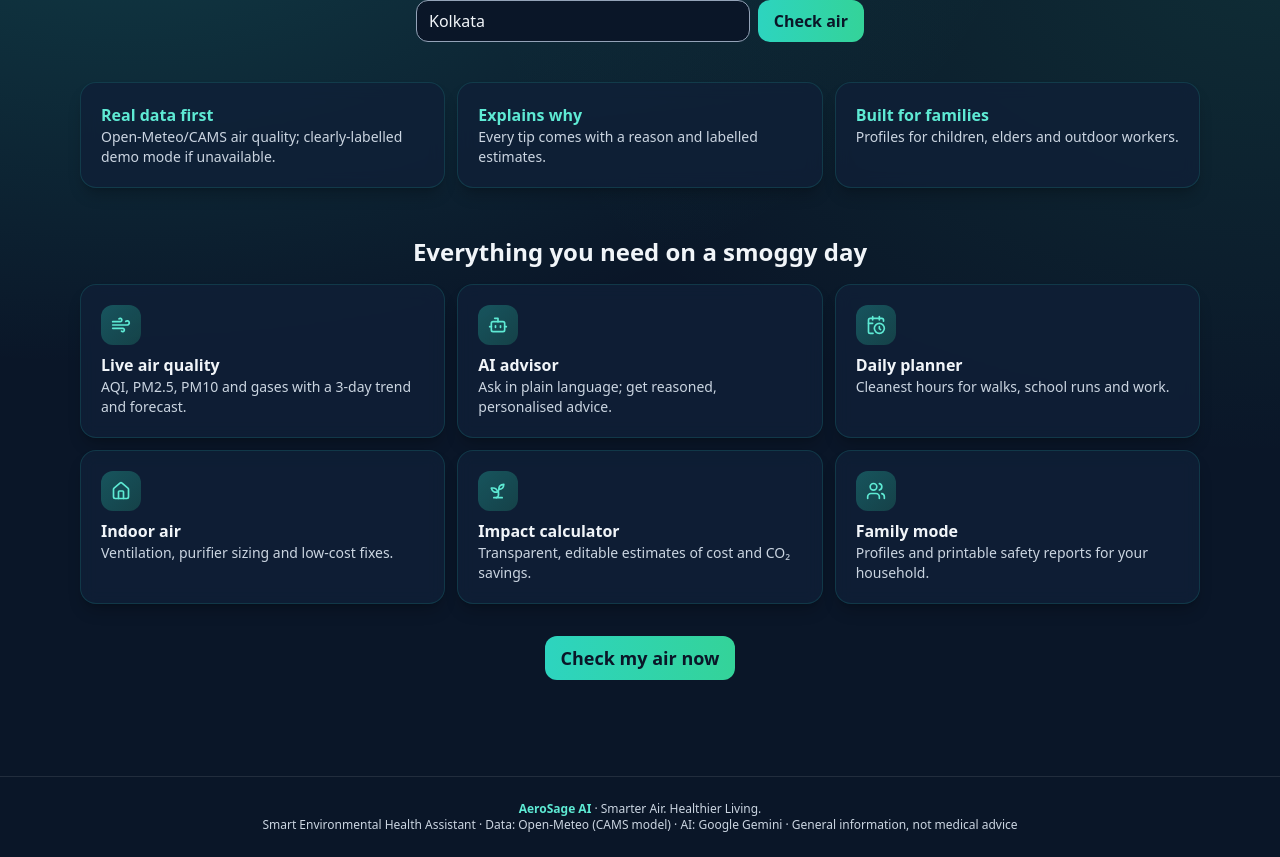
Test: loading and error states › shows a status while loading
The width and height of the screenshot is (1280, 857).
(page scrolled)
Click the button "Check my air now". click: [640, 658]
box: [545,636,736,680]
(page scrolled)
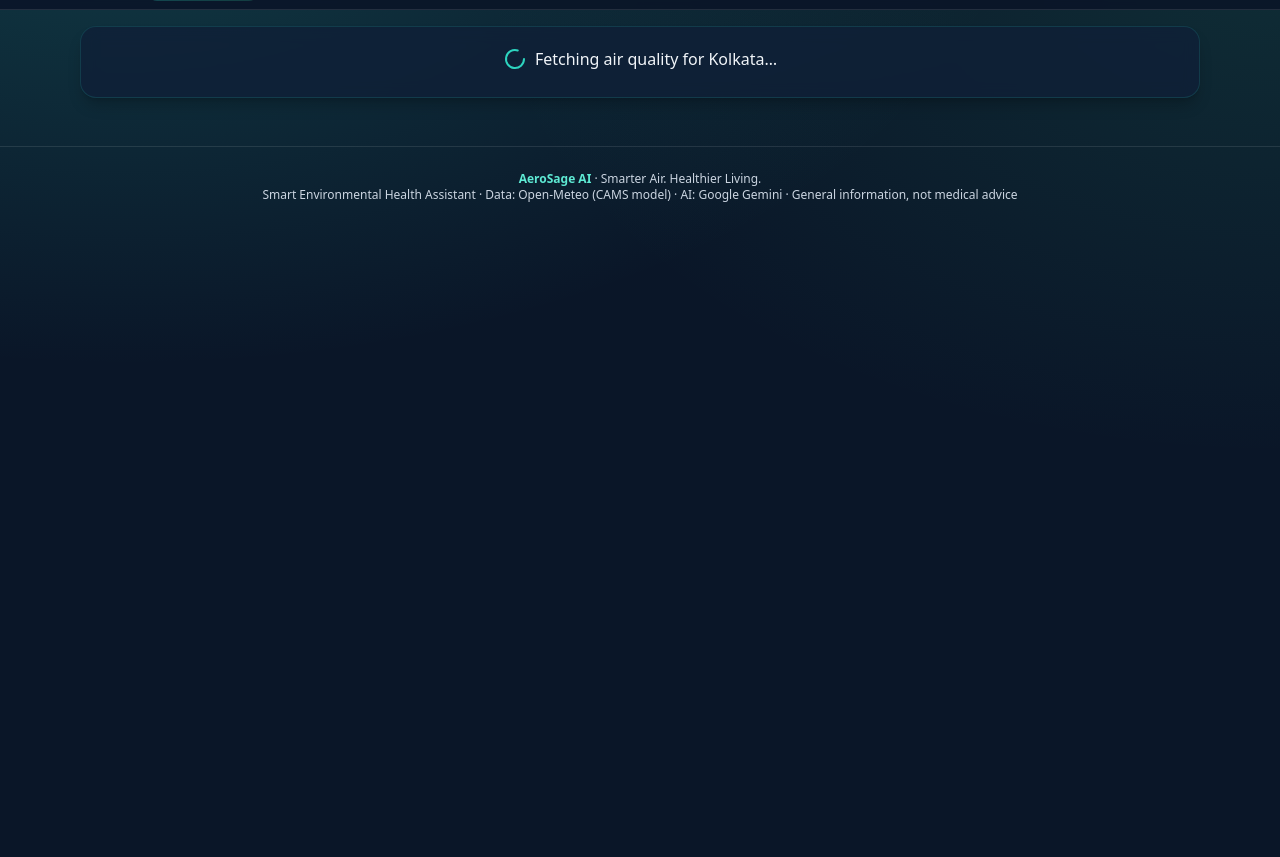
Check: the text "Fetching air quality for Kolkata…" is shown, box [535,47,777,71]
